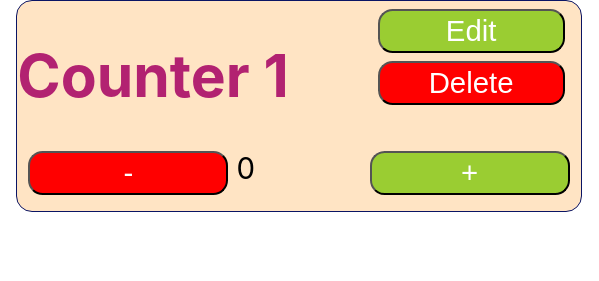
Scenario: Test Counter › should render editable view
Expected: the heading with test id "text" reads "Counter 1", left=17, top=40, right=289, bottom=111
Expected: the text with test id "value" reads "0", left=236, top=151, right=255, bottom=186
Click the button with test id "button-edit". click: (471, 31)
box: left=378, top=9, right=565, bottom=53
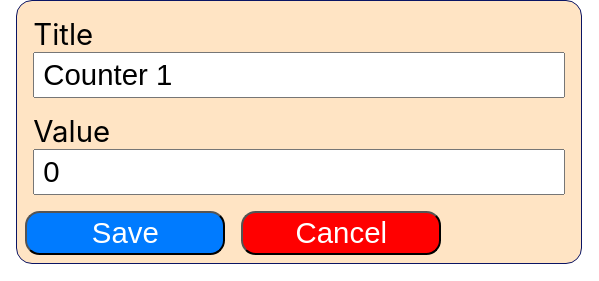
Now the element with test id "counter-editable" is shown
Now the field with test id "text" holds "Counter 1", box left=33, top=52, right=565, bottom=98
Now the number field with test id "value" holds "0", box left=33, top=149, right=565, bottom=195
Click the button with test id "button-cancel". click: (341, 233)
box: left=241, top=211, right=441, bottom=255
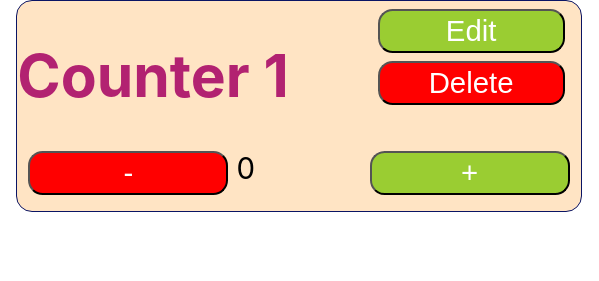
Now the element with test id "counter" is shown
